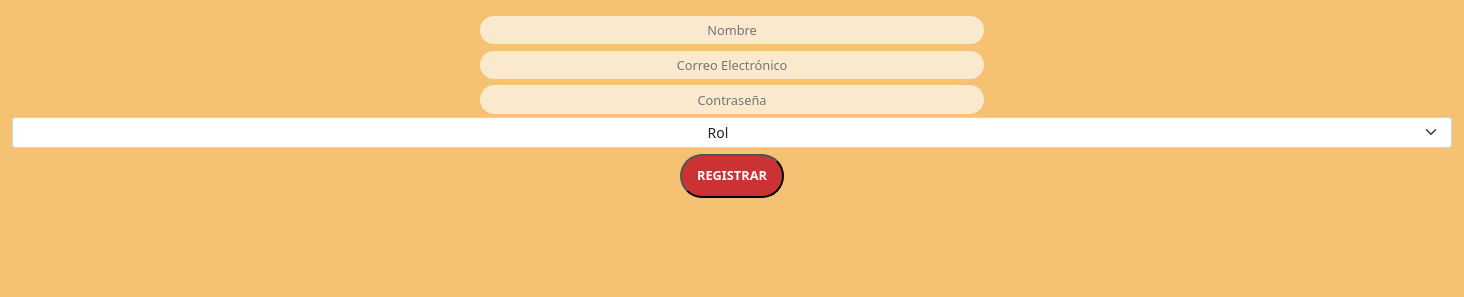
Test case: AdminFormWorkers test › deberia registrar un empleado
The width and height of the screenshot is (1464, 297).
Type "Ana Pérez" into the field with test id "name-worker" at (732, 30), box 480,16 -> 984,44
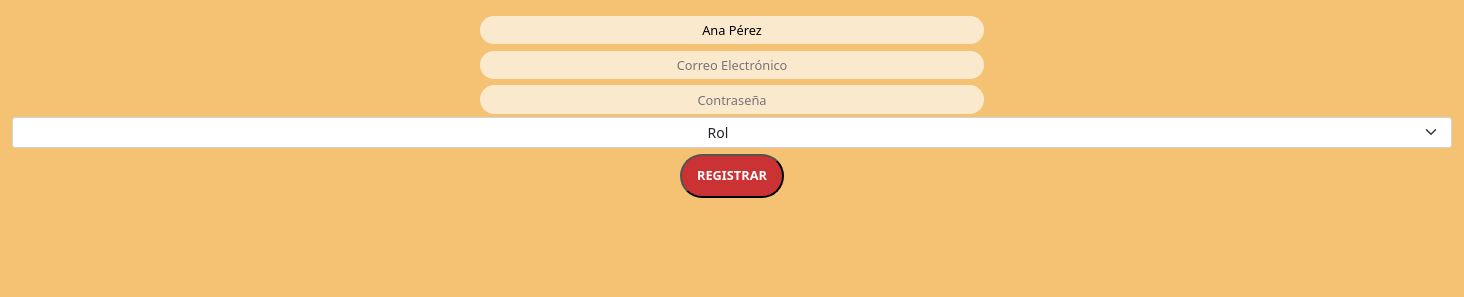
Type "anita.borg@systers.xyz" into the field with test id "email-worker" at (732, 65), box 480,51 -> 984,79
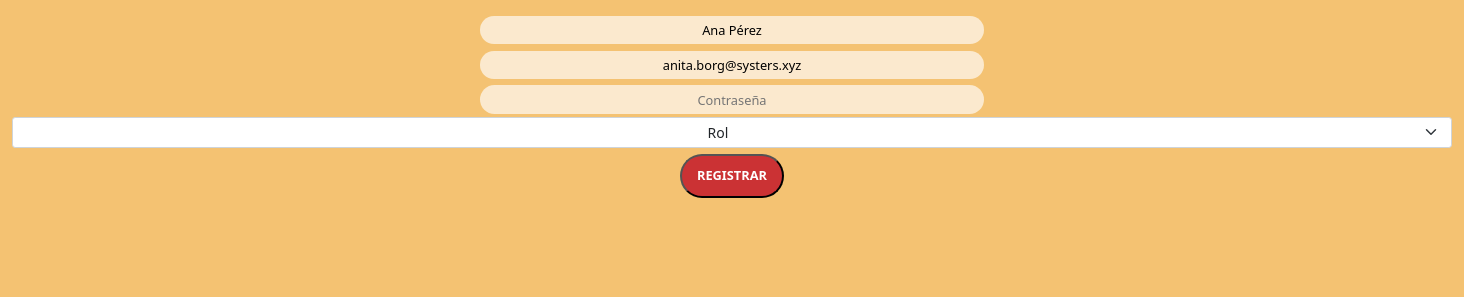
Type "$2a$10$itZyq8s85" into the password field with test id "password-worker" at (732, 100), box 480,86 -> 984,114
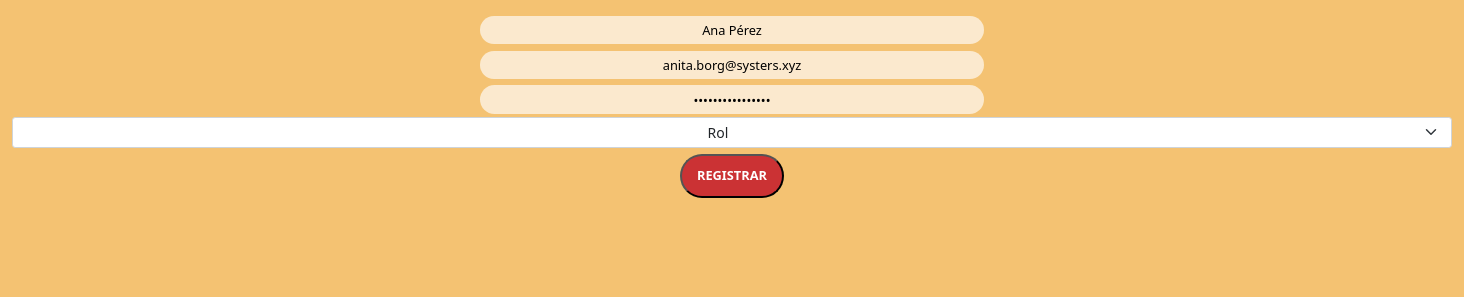
Select "Administrador" in the dropdown with test id "roles-worker" at (732, 132), box 12,117 -> 1452,148
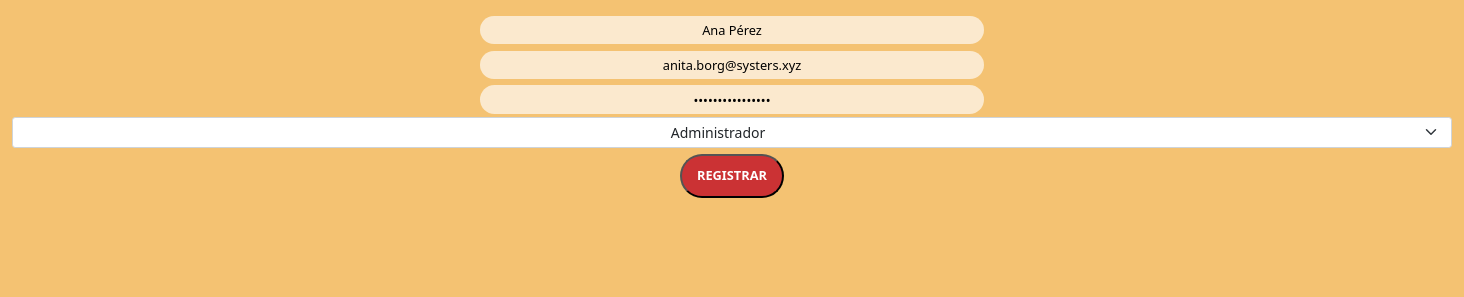
Click the button "REGISTRAR" at (732, 176), box 680,154 -> 784,198
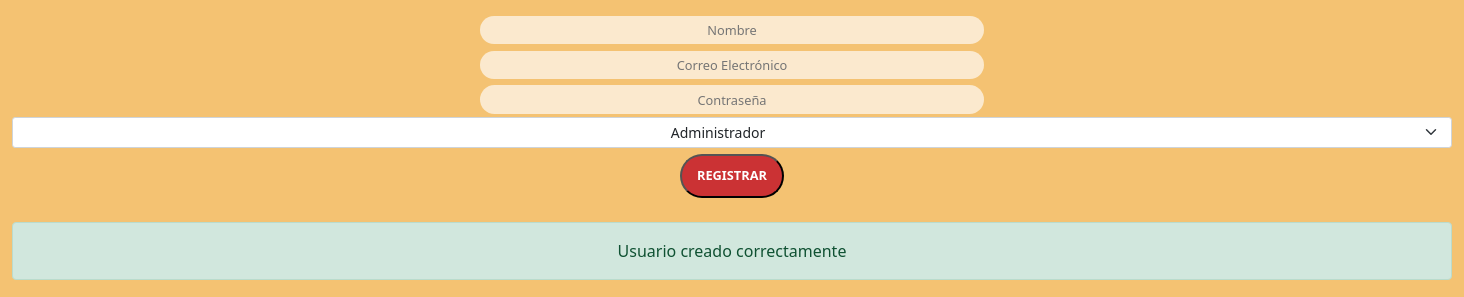
Result: the message with test id "created-order" reads "Usuario creado correctamente" at 618,240 -> 846,262
